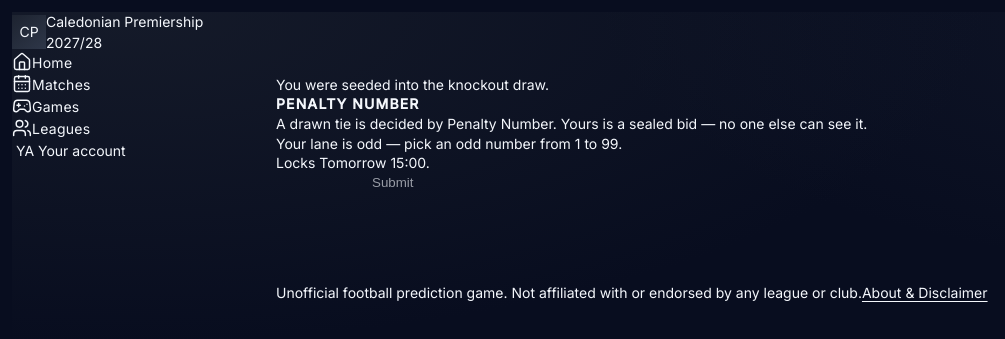
it: the one intent this screen can emit › prints the refusal’s own sentence rather than choosing new copy
Type "7" into the field named "Your Penalty Number" at (324, 183), box [276,175,372,191]
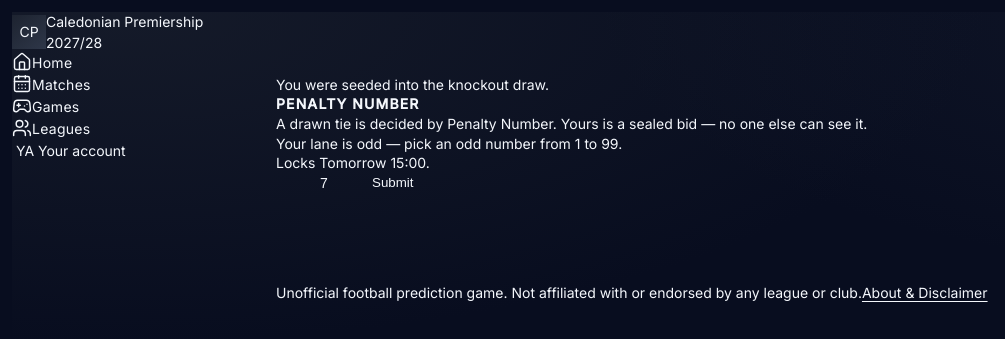
Click the button "Submit" at (393, 182), box [372,175,414,190]
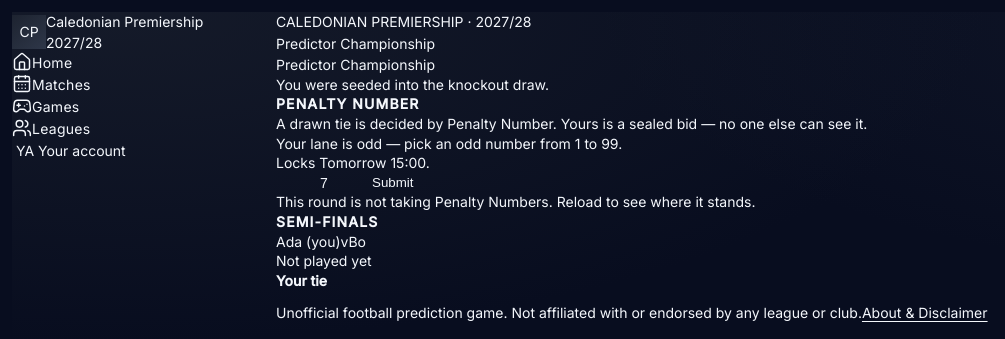
Check: the text "This round is not taking Penalty Numbers. Reload to see where it stands." is shown, box [276,193,756,210]
